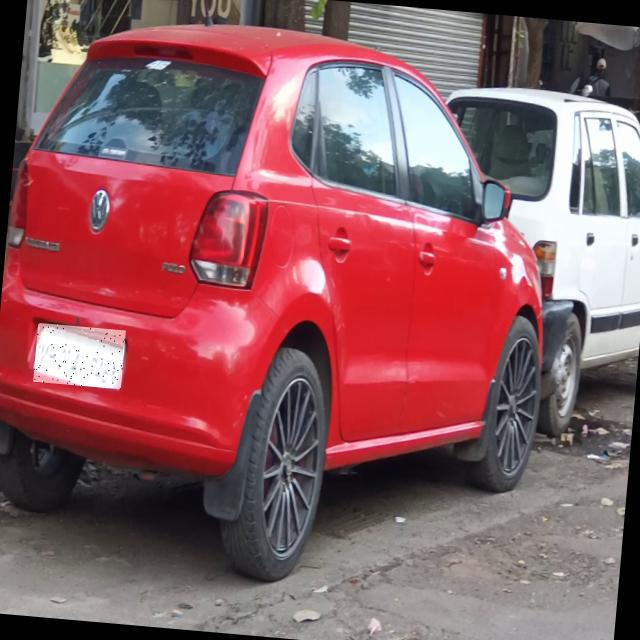Plate: (34, 324, 127, 390)
